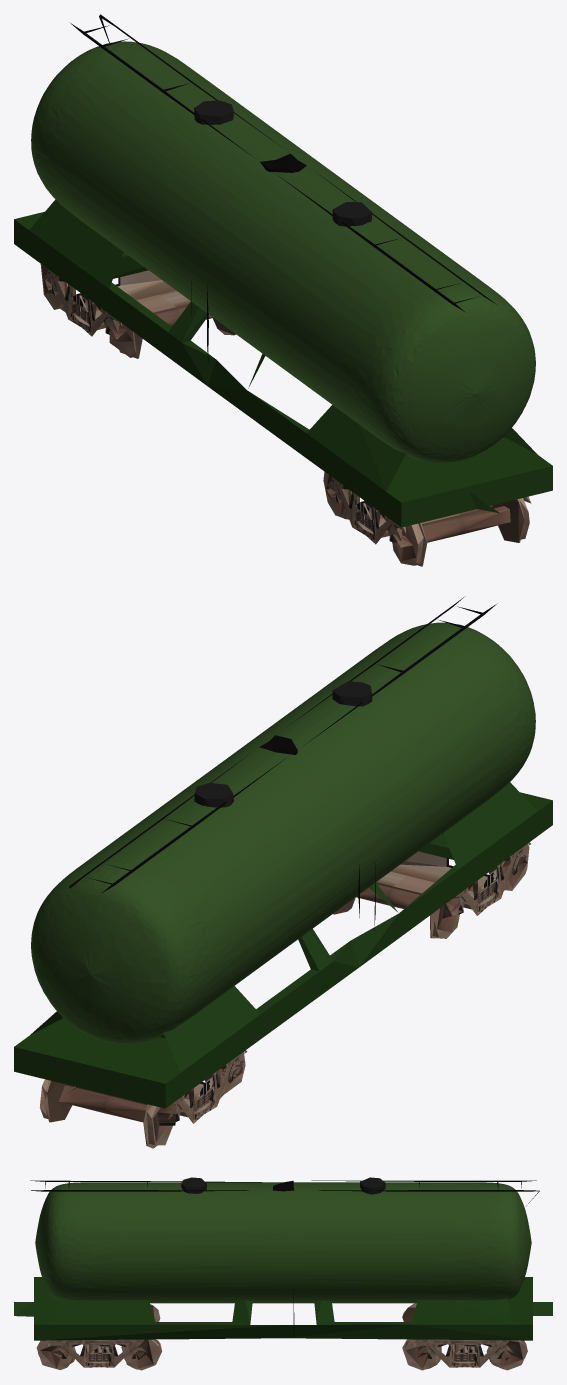
Rendered from btpn.glb.
3 views of the same model, one above another, from view 1: azimuth 30°, elevation 25°; view 2: azimuth 150°, elevation 25°; view 3: azimuth 270°, elevation 25° (orthographic). The views are drawn at different scales.
Visible parts, largest first — view 1: Object_26, Object_120, Object_4, Object_122, Object_24; view 2: Object_26, Object_120, Object_4, Object_122, Object_24; view 3: Object_26, Object_120, Object_4, Object_122, Object_24.
Part boxes in pixels (x1,y1,x2,y2): Object_26: (31,41,535,463); Object_120: (14,199,552,527); Object_4: (40,264,531,566); Object_122: (70,14,496,361); Object_24: (194,100,372,226); Object_26: (31,622,535,1044); Object_120: (14,782,552,1108); Object_4: (39,842,530,1148); Object_122: (69,596,497,930); Object_24: (194,681,372,807); Object_26: (35,1182,531,1303); Object_120: (14,1277,552,1340); Object_4: (36,1303,527,1370); Object_122: (30,1180,539,1337); Object_24: (181,1177,385,1194).
Bounding box in the file's own units: 2.89 × 4.37 × 12.42.
Materials: 5 (1 with a texture image).
